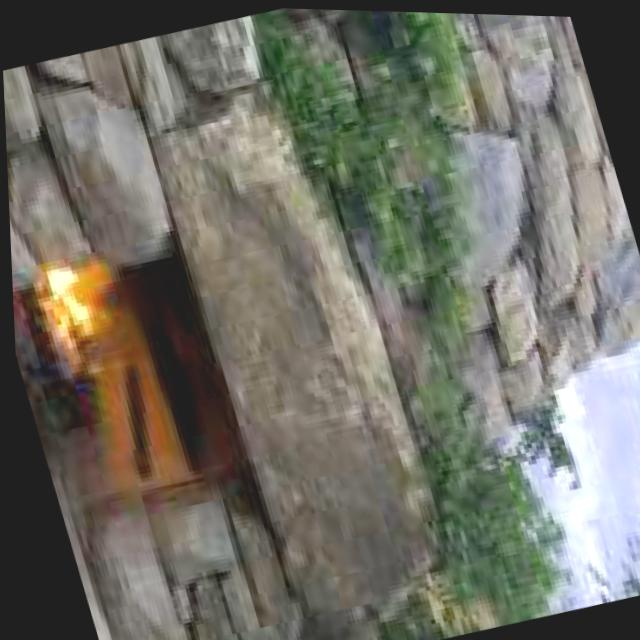fire: (22, 223, 150, 373)
